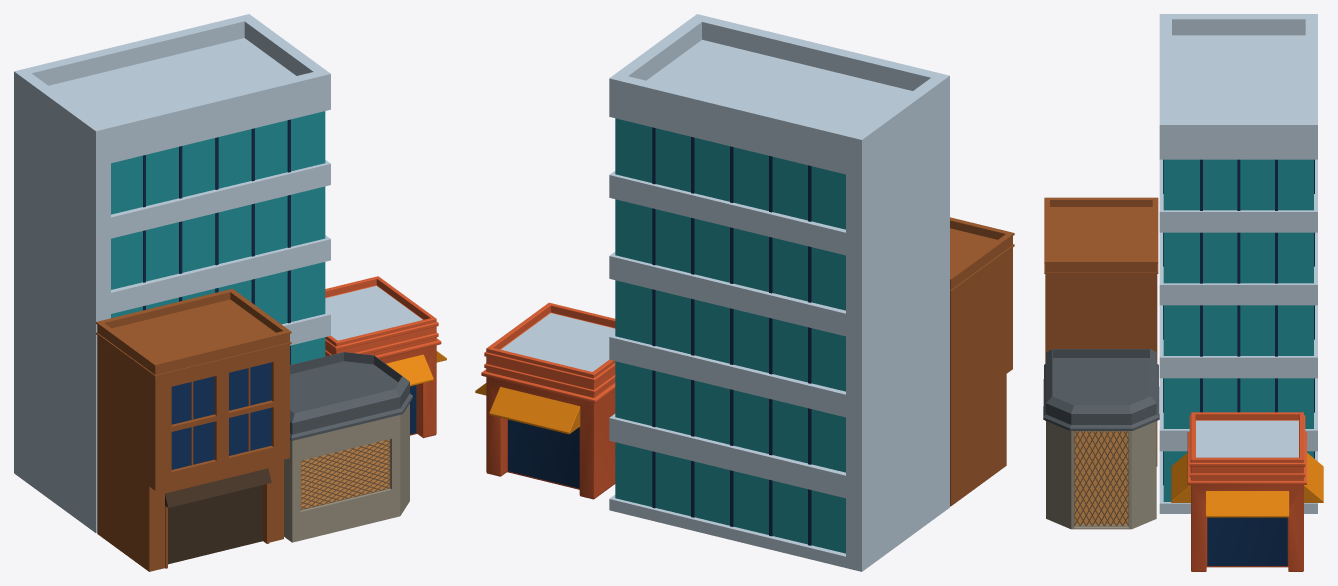
File: set_of_4_low-poly_buildings.glb
3 views of the same model, side by side, from view 1: azimuth 30°, elevation 25°; view 2: azimuth 150°, elevation 25°; view 3: azimuth 270°, elevation 25° (orthographic). The views are drawn at different scales.
Visible parts, largest first — view 1: Plane.002, Plane.007, Plane.012, Plane.016, Plane.011, Plane.017, Plane.008, Plane.019, Plane.013, Plane.005, Plane.015, Plane.010; view 2: Plane.002, Plane.012, Plane.007, Plane.005, Plane.008, Plane.013, Plane.011, Plane.010; view 3: Plane.002, Plane.012, Plane.016, Plane.017, Plane.011, Plane.007, Plane.005, Plane.008, Plane.018, Plane.009, Plane.013, Plane.010.
Boxes of the visible parts, left/top/right/bottom form: Plane.002: left=14, top=97, right=330, bottom=532; Plane.007: left=97, top=335, right=289, bottom=571; Plane.012: left=14, top=14, right=330, bottom=156; Plane.016: left=284, top=403, right=409, bottom=542; Plane.011: left=96, top=288, right=291, bottom=377; Plane.017: left=290, top=352, right=412, bottom=440; Plane.008: left=325, top=276, right=438, bottom=356; Plane.019: left=300, top=439, right=390, bottom=510; Plane.013: left=143, top=119, right=290, bottom=364; Plane.005: left=375, top=338, right=441, bottom=438; Plane.015: left=165, top=468, right=271, bottom=507; Plane.010: left=386, top=354, right=433, bottom=386; Plane.002: left=609, top=103, right=949, bottom=571; Plane.012: left=609, top=14, right=949, bottom=166; Plane.007: left=950, top=248, right=1012, bottom=506; Plane.005: left=481, top=369, right=615, bottom=499; Plane.008: left=484, top=302, right=615, bottom=397; Plane.013: left=652, top=127, right=811, bottom=545; Plane.011: left=950, top=217, right=1014, bottom=292; Plane.010: left=489, top=387, right=580, bottom=434; Plane.002: left=1159, top=149, right=1317, bottom=513; Plane.012: left=1159, top=14, right=1317, bottom=149; Plane.016: left=1046, top=421, right=1156, bottom=529; Plane.017: left=1043, top=349, right=1159, bottom=430; Plane.011: left=1044, top=197, right=1158, bottom=273; Plane.007: left=1045, top=274, right=1157, bottom=466; Plane.005: left=1187, top=432, right=1306, bottom=571; Plane.008: left=1189, top=412, right=1305, bottom=480; Plane.018: left=1074, top=431, right=1128, bottom=526; Plane.009: left=1205, top=491, right=1289, bottom=517; Plane.013: left=1163, top=159, right=1314, bottom=485; Plane.010: left=1171, top=453, right=1323, bottom=502.
Size of the model in its own units: 7.58 by 7.77 by 5.06.
